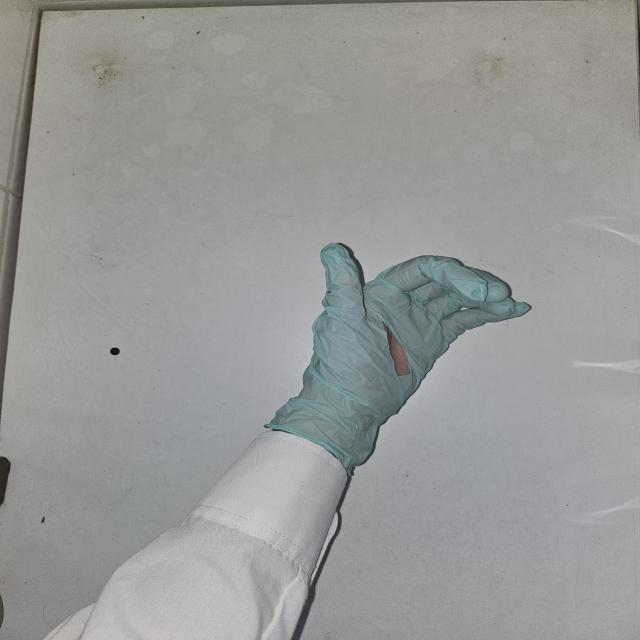gloves_damaged: (256, 238, 538, 468)
